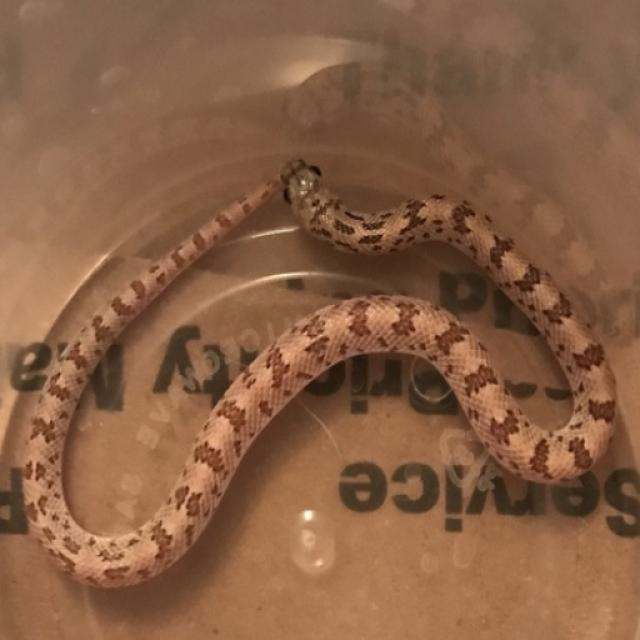snake: (27, 150, 627, 591)
